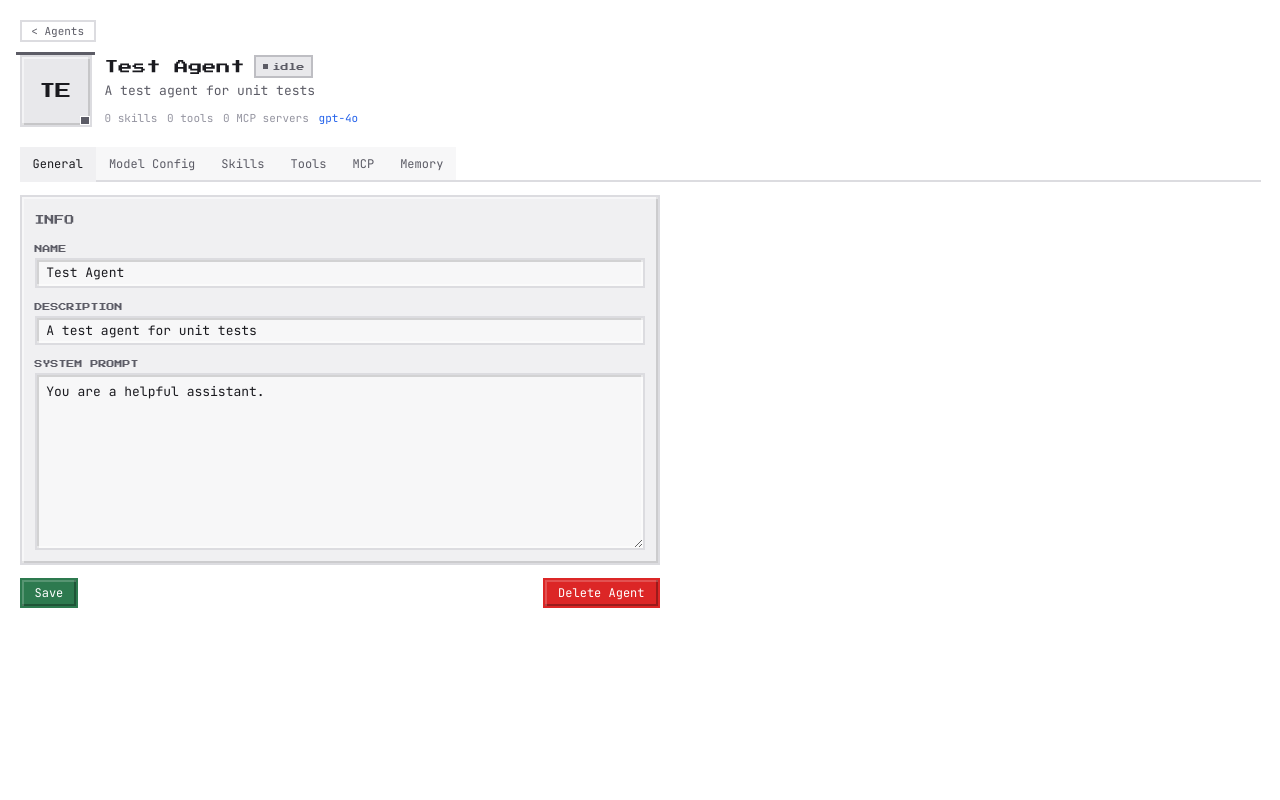
Test case: AgentDetailPage › switches to MCP tab and shows empty state
Click the button "MCP". click: (363, 164)
box: [340,147,387,182]
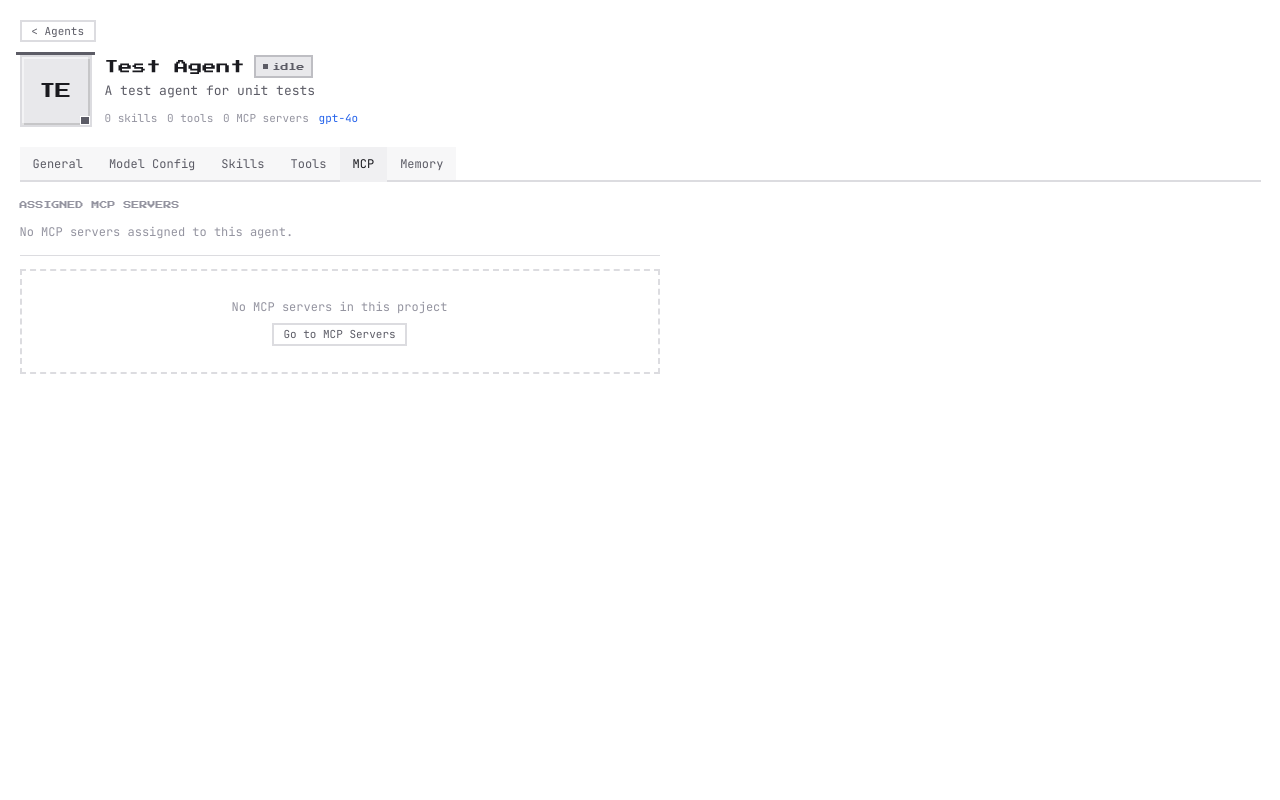
Now the text "No MCP servers assigned to this agent." is shown, box [20,224,293,240]
